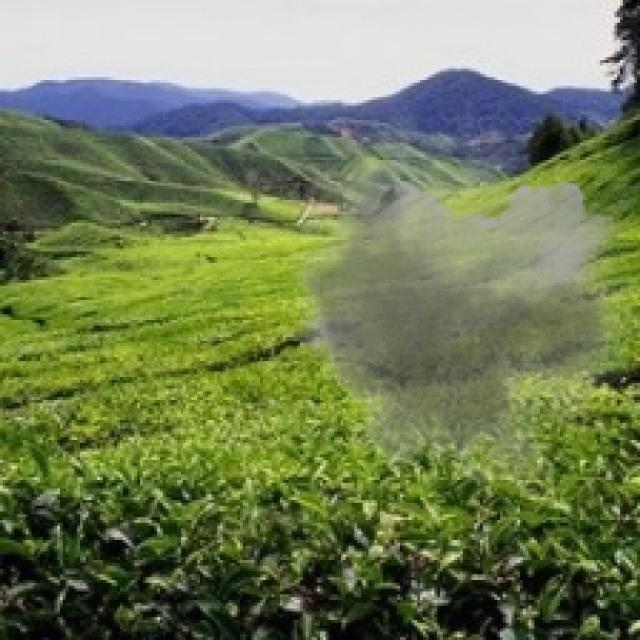smoke: (277, 97, 637, 512)
